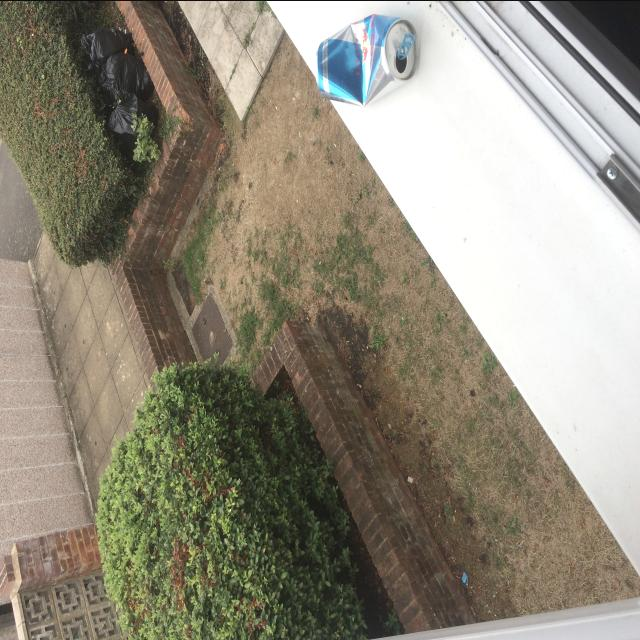Drink can: (315, 13, 420, 107)
Garbage bag: (98, 52, 154, 101), (107, 89, 159, 141), (81, 27, 135, 77)
Pop tab: (397, 32, 415, 59)
